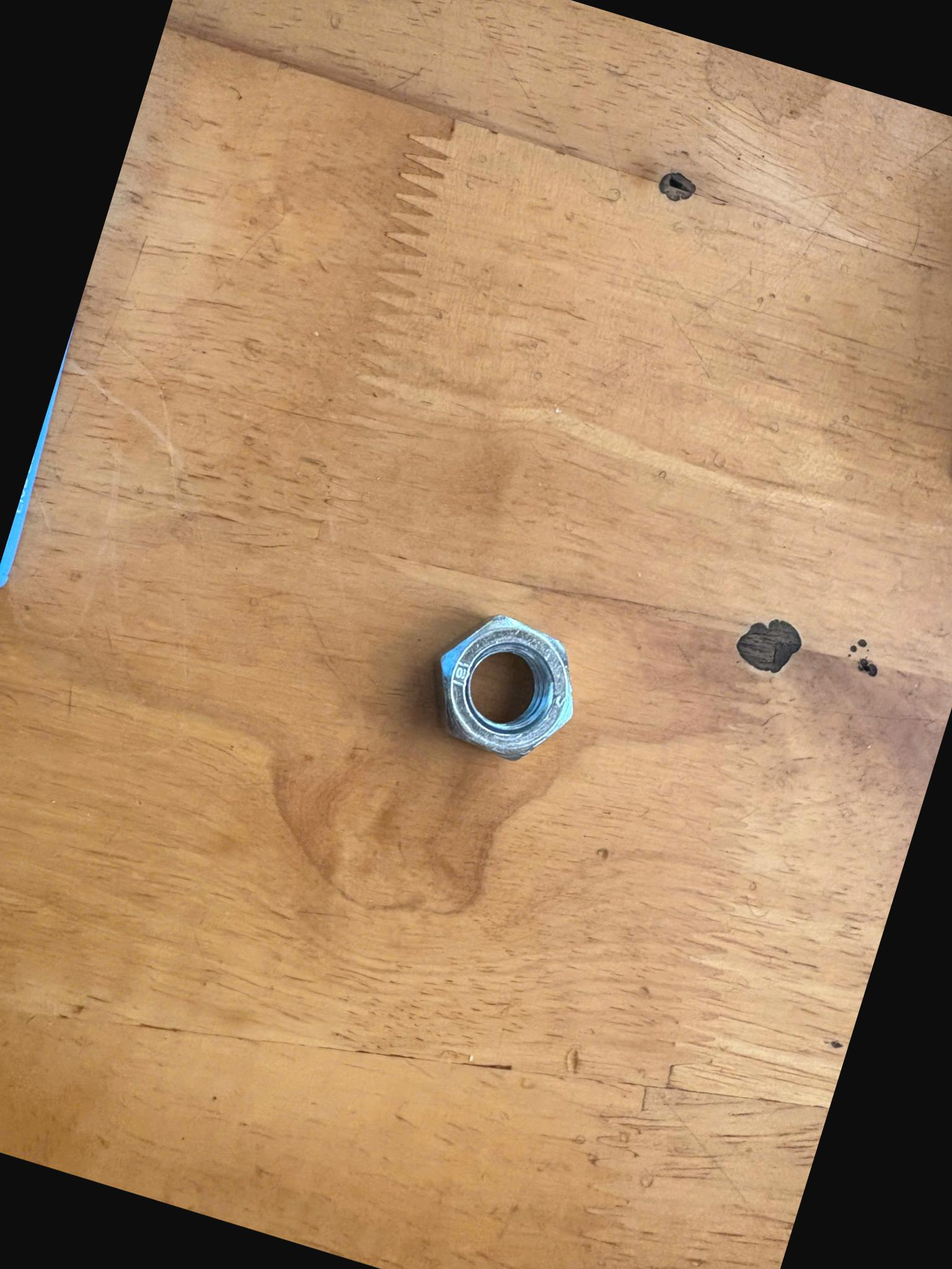nut: (402, 589, 610, 799)
